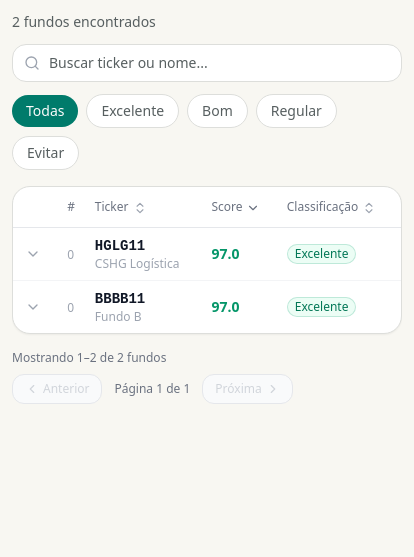
Test: RankingPage — detalhe expansível no mobile › expande cada linha de forma independente
The width and height of the screenshot is (414, 557).
Click the button named "detalhes de HGLG11" at [33, 254], box [21,242,45,266]
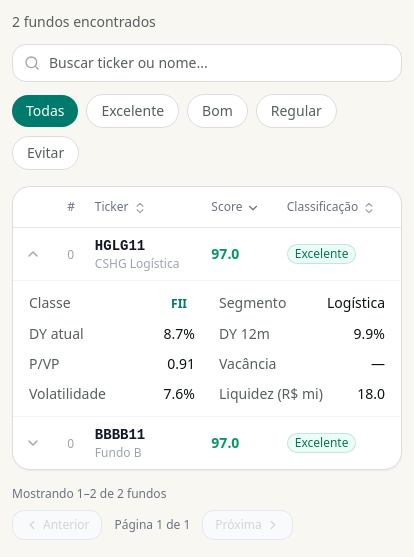
Result: the element with test id "detalhe-HGLG11" is shown at [13,280,401,416]
